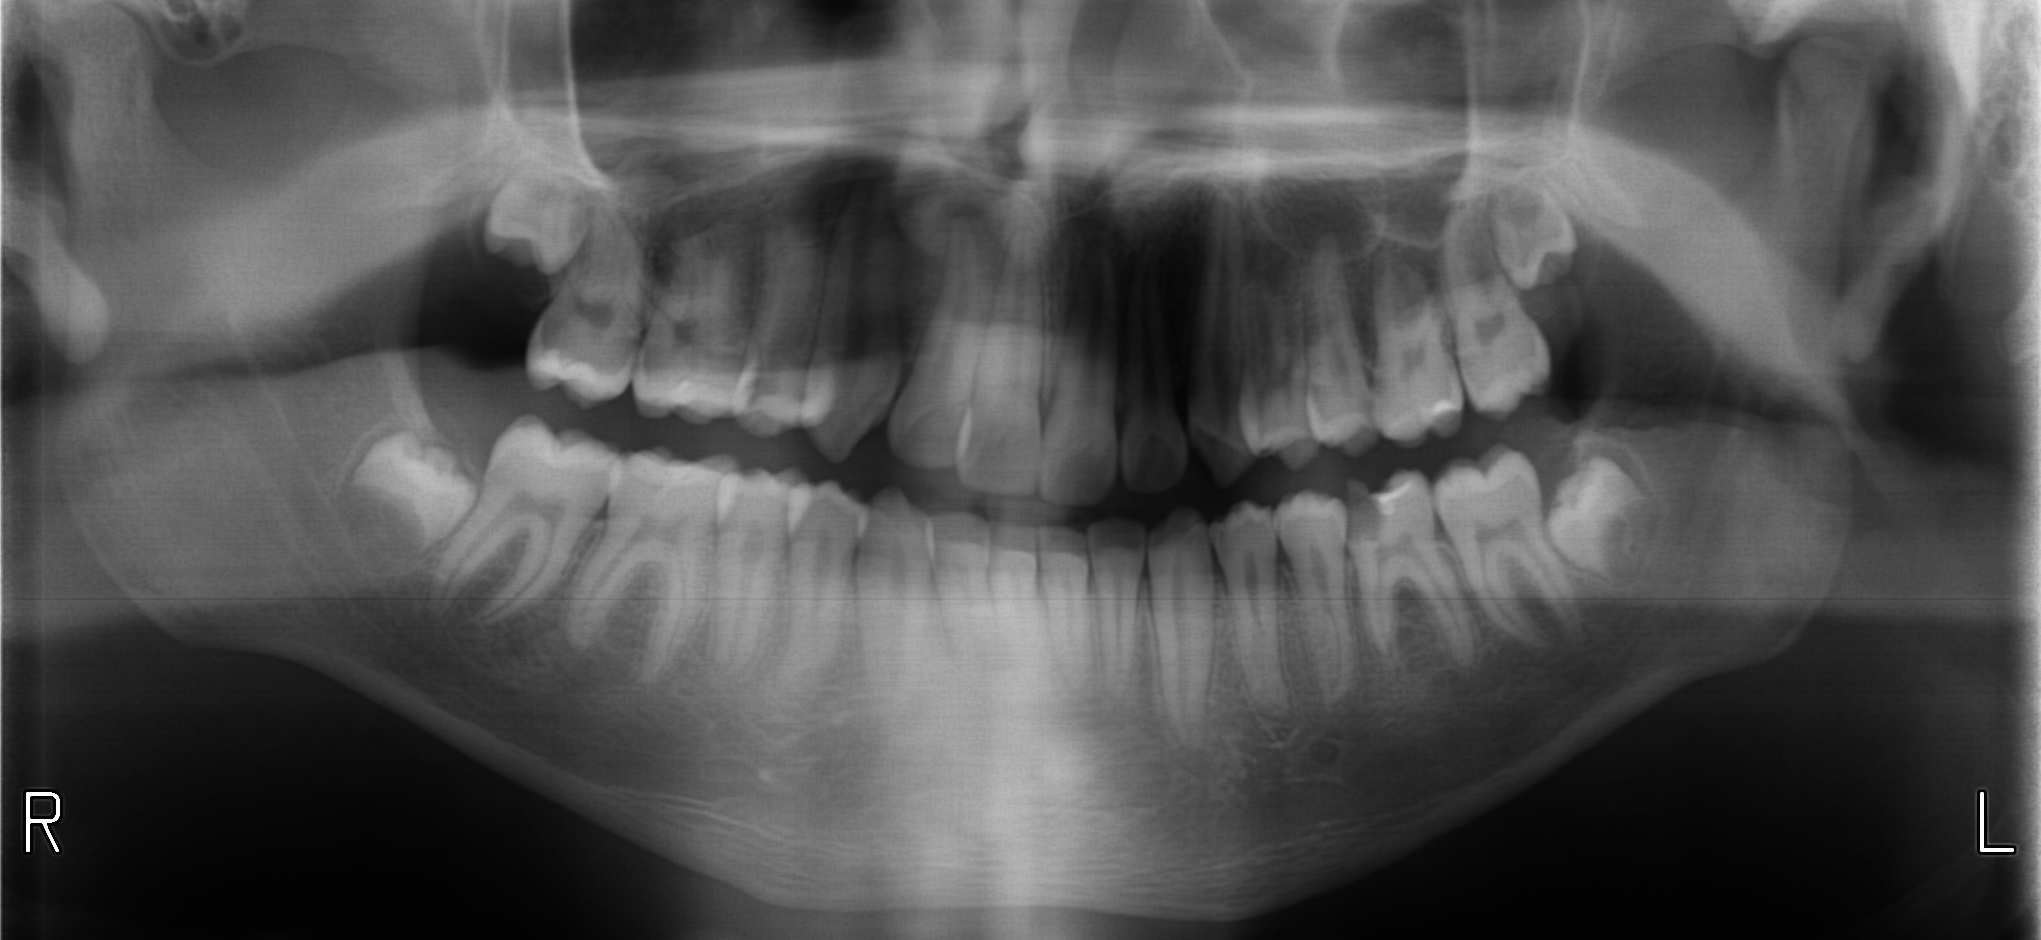cavity: (1352, 484, 1382, 542)
